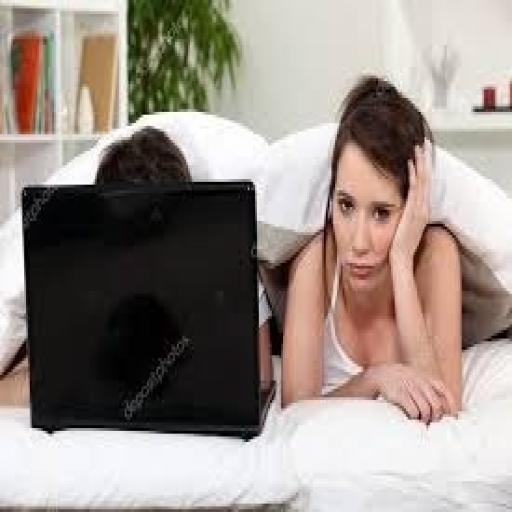using_laptop: (18, 176, 276, 440)
